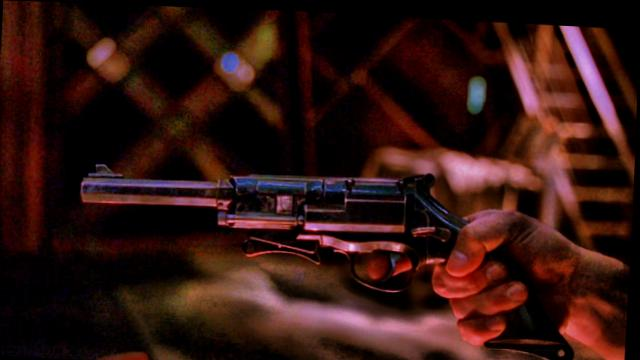pistol: (49, 126, 580, 355)
